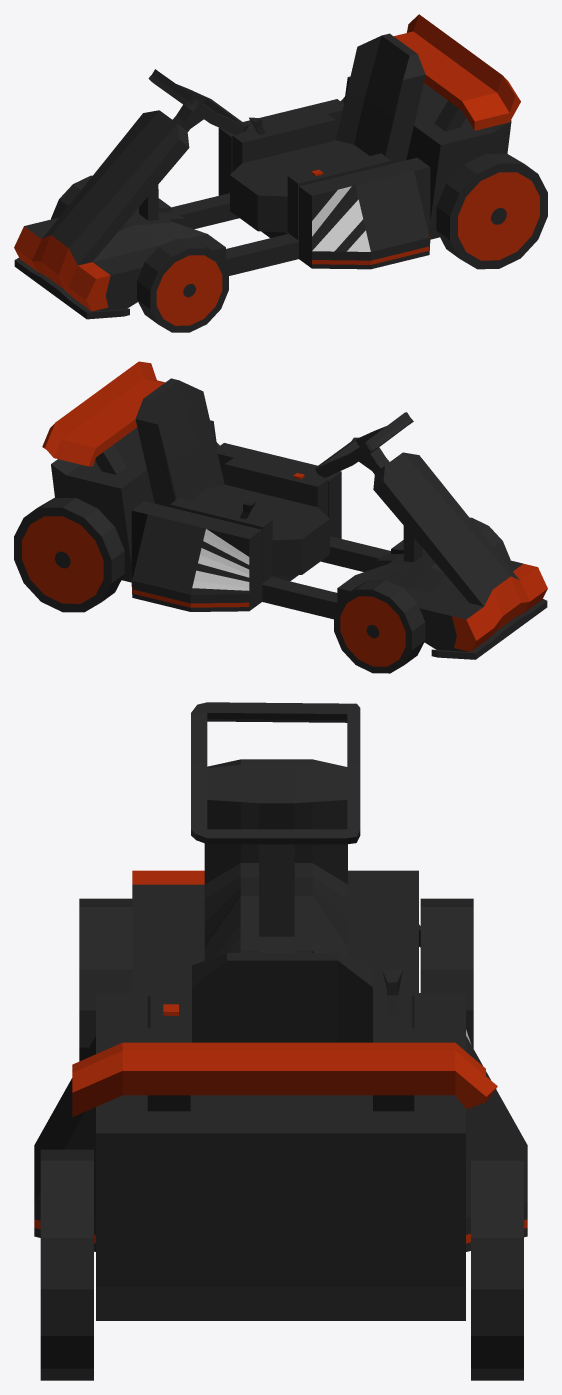
File: gokart.fbx
The picture shows the model from 3 angles, top to bottom: view 1: azimuth 30°, elevation 25°; view 2: azimuth 150°, elevation 25°; view 3: azimuth 270°, elevation 25°; orthographic projection. The views are drawn at different scales.
Parts seen in each view (by area): view 1: Back body, Cube, Chair, Cylinder.002, Cylinder, Cube.001, Cylinder.001; view 2: Back body, Cube, Chair, Cylinder.003, Cylinder.001, Cube.001, Cylinder; view 3: Back body, Cube, Cube.001, Chair, Cylinder.002, Cylinder.003, Cylinder, Cylinder.001.
Boxes of the visible parts, x1=… form: Back body: x1=171, y1=76, x2=511, y2=275; Cube: x1=14, y1=69, x2=248, y2=319; Chair: x1=230, y1=33, x2=425, y2=240; Cylinder.002: x1=436, y1=153, x2=547, y2=269; Cylinder: x1=137, y1=238, x2=228, y2=332; Cube.001: x1=394, y1=14, x2=520, y2=130; Cylinder.001: x1=51, y1=175, x2=92, y2=219; Back body: x1=51, y1=420, x2=390, y2=619; Cube: x1=315, y1=412, x2=547, y2=659; Chair: x1=135, y1=378, x2=329, y2=583; Cylinder.003: x1=14, y1=497, x2=124, y2=612; Cylinder.001: x1=334, y1=580, x2=425, y2=673; Cube.001: x1=42, y1=361, x2=164, y2=466; Cylinder: x1=469, y1=517, x2=510, y2=560; Back body: x1=34, y1=993, x2=527, y2=1320; Cube: x1=132, y1=702, x2=420, y2=1028; Cube.001: x1=72, y1=1042, x2=497, y2=1116; Chair: x1=150, y1=953, x2=412, y2=1042; Cylinder.002: x1=40, y1=1149, x2=93, y2=1380; Cylinder.003: x1=471, y1=1149, x2=523, y2=1380; Cylinder: x1=79, y1=898, x2=132, y2=1061; Cylinder.001: x1=420, y1=898, x2=473, y2=1048.
Size of the model in its own units: 872 by 393 by 427.
